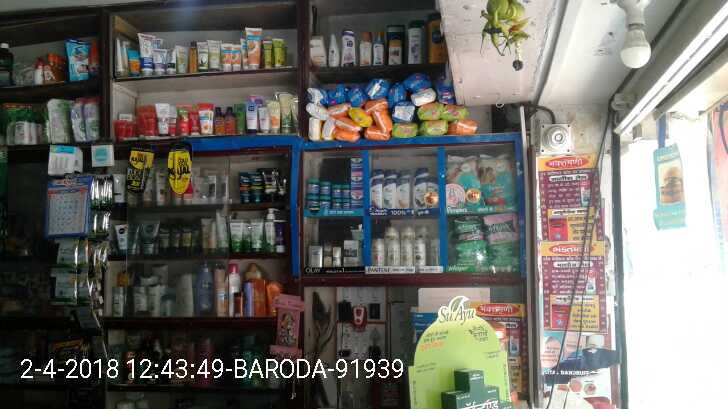vicks: (350, 171, 361, 190), (350, 154, 363, 170), (351, 190, 363, 207), (308, 180, 319, 195), (308, 196, 319, 208), (321, 197, 332, 208), (332, 185, 341, 196), (323, 181, 330, 195), (332, 200, 344, 208), (341, 185, 349, 196), (344, 200, 350, 209)
